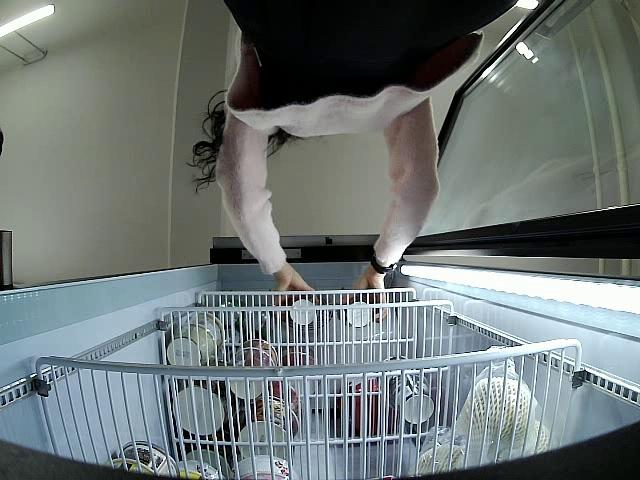00_hand: (340, 271, 389, 323), (273, 273, 320, 304)
